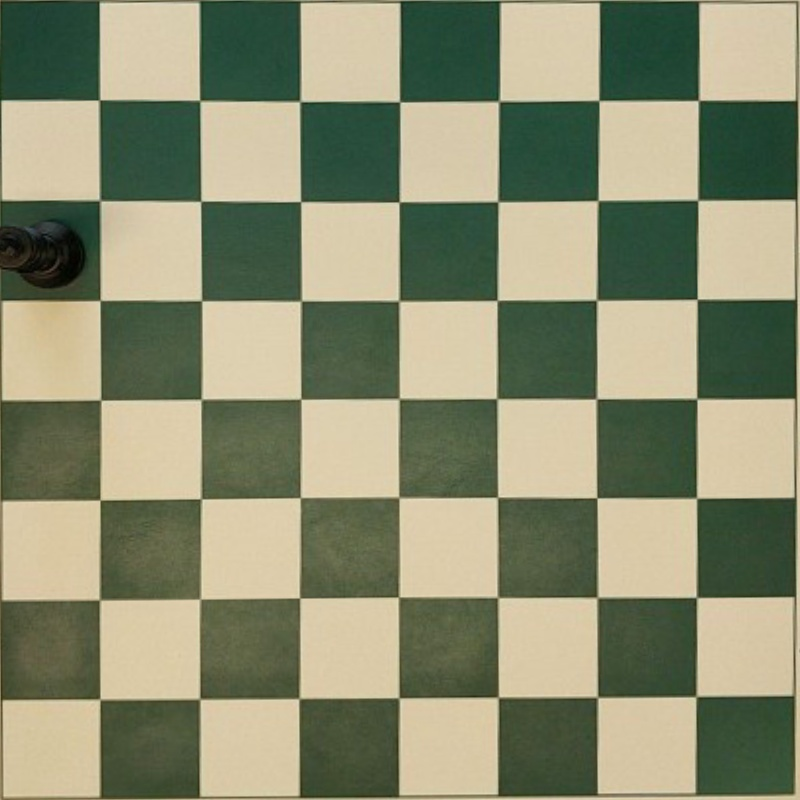black-king: (0, 219, 84, 288)
